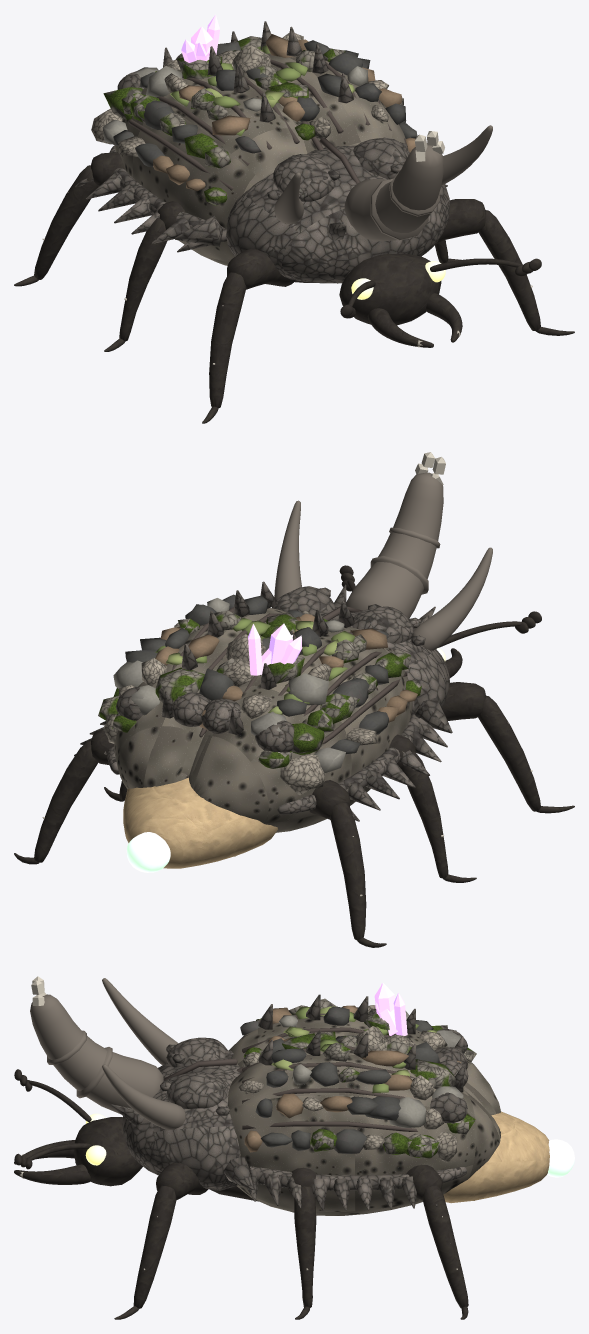
Rendered from great_rock_beetle_v2.glb.
3 renders of one model, top to bottom at view 1: azimuth 30°, elevation 25°; view 2: azimuth 150°, elevation 25°; view 3: azimuth 270°, elevation 25°, orthographic. The views are drawn at different scales.
Visible parts, largest first — view 1: body, leg_l0, leg_r0, leg_l2, leg_l1; view 2: body, leg_l0, leg_l2, leg_r2, leg_l1; view 3: body, leg_r0, leg_r2, leg_r1.
Part boxes in pixels (left/top/right/bottom): body: left=75, top=14, right=541, bottom=347; leg_l0: left=202, top=248, right=295, bottom=423; leg_r0: left=435, top=199, right=574, bottom=335; leg_l2: left=14, top=152, right=124, bottom=286; leg_l1: left=104, top=201, right=185, bottom=351; body: left=74, top=452, right=541, bottom=872; leg_l0: left=442, top=682, right=574, bottom=813; leg_l2: left=309, top=780, right=386, bottom=947; leg_r2: left=14, top=729, right=114, bottom=864; leg_l1: left=389, top=734, right=476, bottom=882; body: left=14, top=976, right=574, bottom=1215; leg_r0: left=114, top=1162, right=207, bottom=1319; leg_r2: left=406, top=1164, right=468, bottom=1319; leg_r1: left=288, top=1167, right=316, bottom=1319.
Size of the model in its own units: 1.16 by 0.8416 by 1.65.
Materials: 17 (9 with a texture image).
